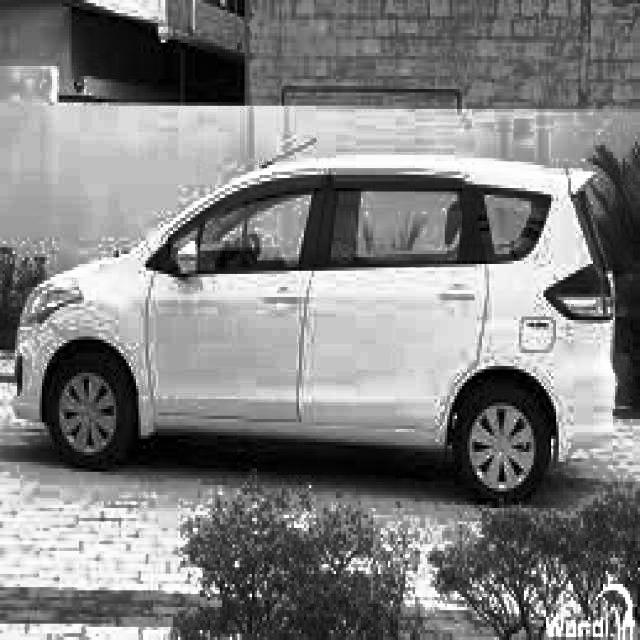Car: (18, 120, 626, 512)
